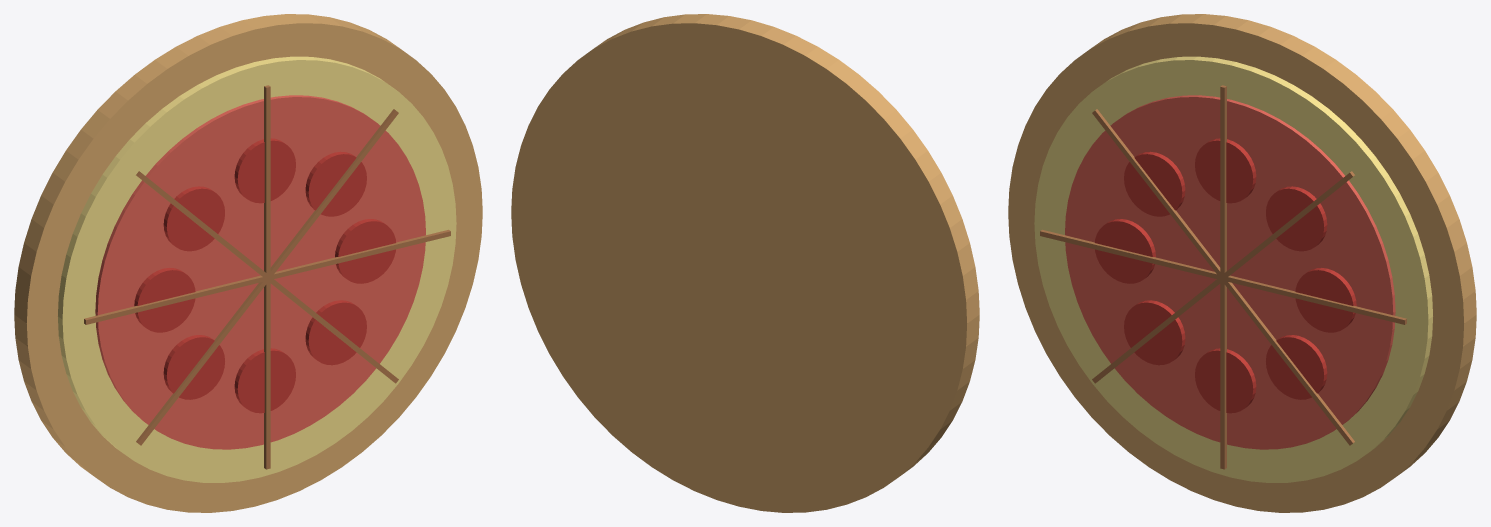
Rendered from pizza.glb.
The picture shows the model from 3 angles, left to right: view 1: azimuth 30°, elevation 25°; view 2: azimuth 150°, elevation 25°; view 3: azimuth 330°, elevation 25°; orthographic projection.
Visible parts, largest first — view 1: world; view 2: world; view 3: world.
Part boxes in pixels (x1,y1,x2,y2): world: [14, 14, 482, 512]; world: [511, 14, 979, 512]; world: [1008, 14, 1476, 512].
Bounding box in the file's own units: 2.5 × 2.5 × 0.25.
